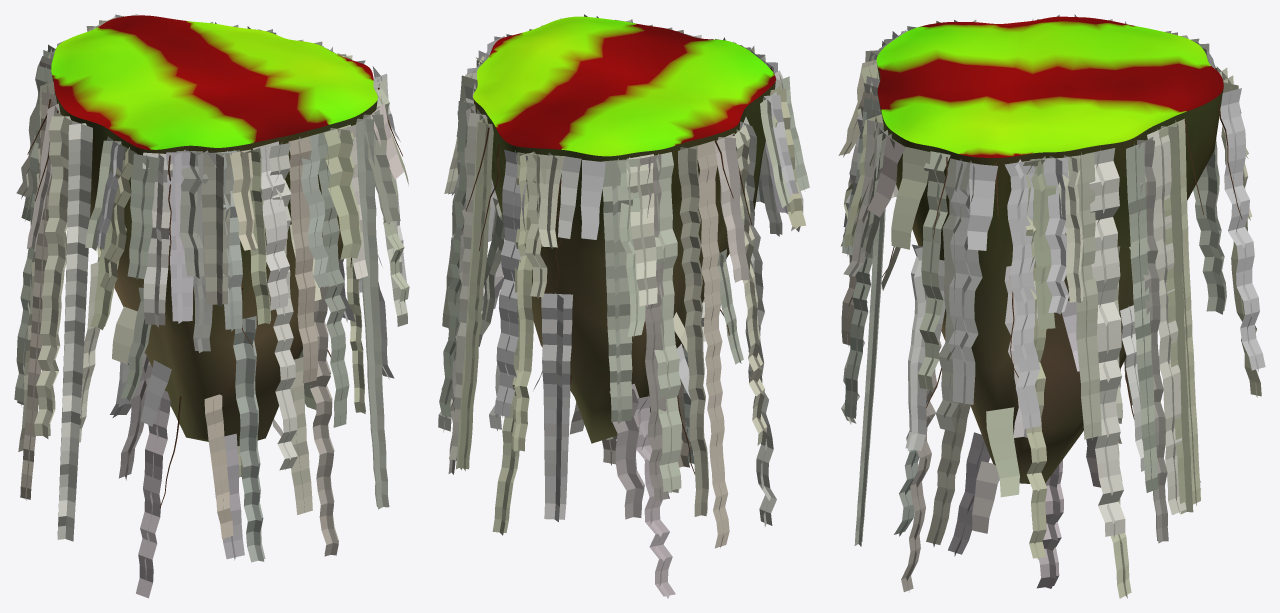
Rendered from SM_H01_Floater08.fbx.
The picture shows the model from 3 angles, left to right: view 1: azimuth 30°, elevation 25°; view 2: azimuth 150°, elevation 25°; view 3: azimuth 270°, elevation 25°; orthographic projection. The views are drawn at different scales.
Visible parts, largest first — view 1: SM_H01_Floater08_Ivy, SM_H01_Floater08; view 2: SM_H01_Floater08_Ivy, SM_H01_Floater08; view 3: SM_H01_Floater08_Ivy, SM_H01_Floater08.
Part boxes in pixels (x1=…): SM_H01_Floater08_Ivy: x1=14, y1=14, x2=409, y2=598; SM_H01_Floater08: x1=51, y1=15, x2=377, y2=445; SM_H01_Floater08_Ivy: x1=438, y1=14, x2=809, y2=598; SM_H01_Floater08: x1=473, y1=16, x2=775, y2=443; SM_H01_Floater08_Ivy: x1=838, y1=14, x2=1265, y2=598; SM_H01_Floater08: x1=876, y1=16, x2=1223, y2=483.
Size of the model in its own units: 25.09 by 37.01 by 26.21.
